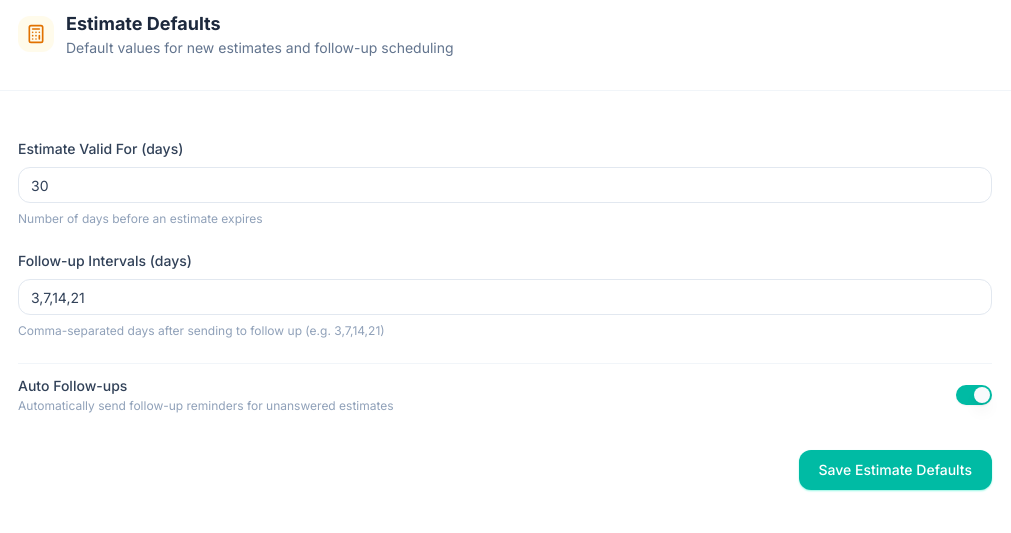
EstimateDefaults › shows validation error for invalid follow-up intervals
In the field with test id "ed-follow-up-intervals-input": (505, 297) [18,279,992,315], type "abc"
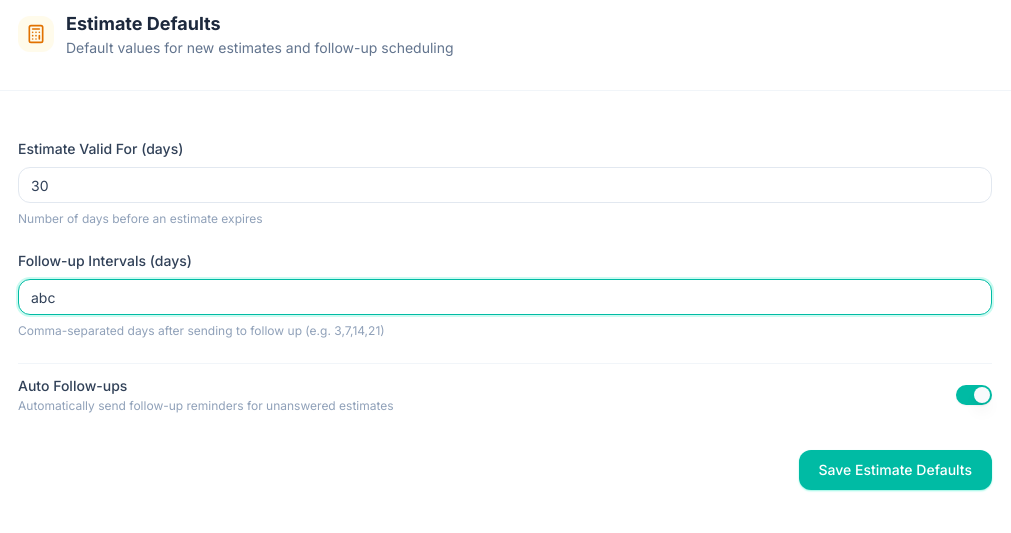
Click the button with test id "save-estimate-defaults-btn": (895, 470) [798,450,992,490]
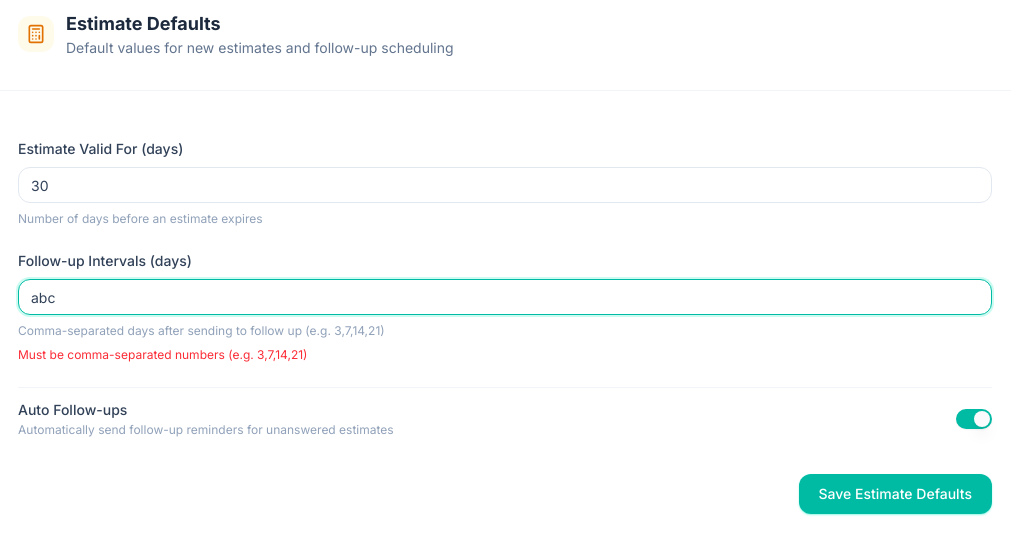
Expected: the text "Must be comma-separated numbers (e.g. 3,7,14,21)" is shown, [18,347,308,362]
